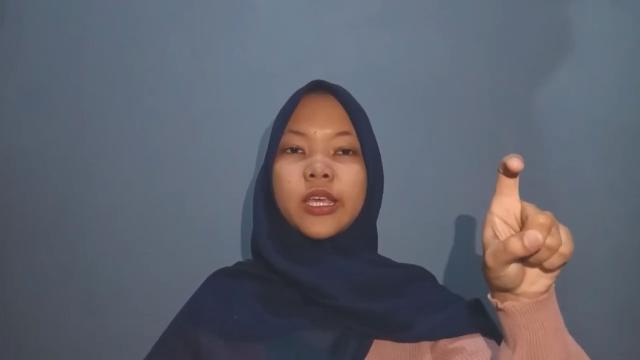X: (470, 150, 578, 298)
